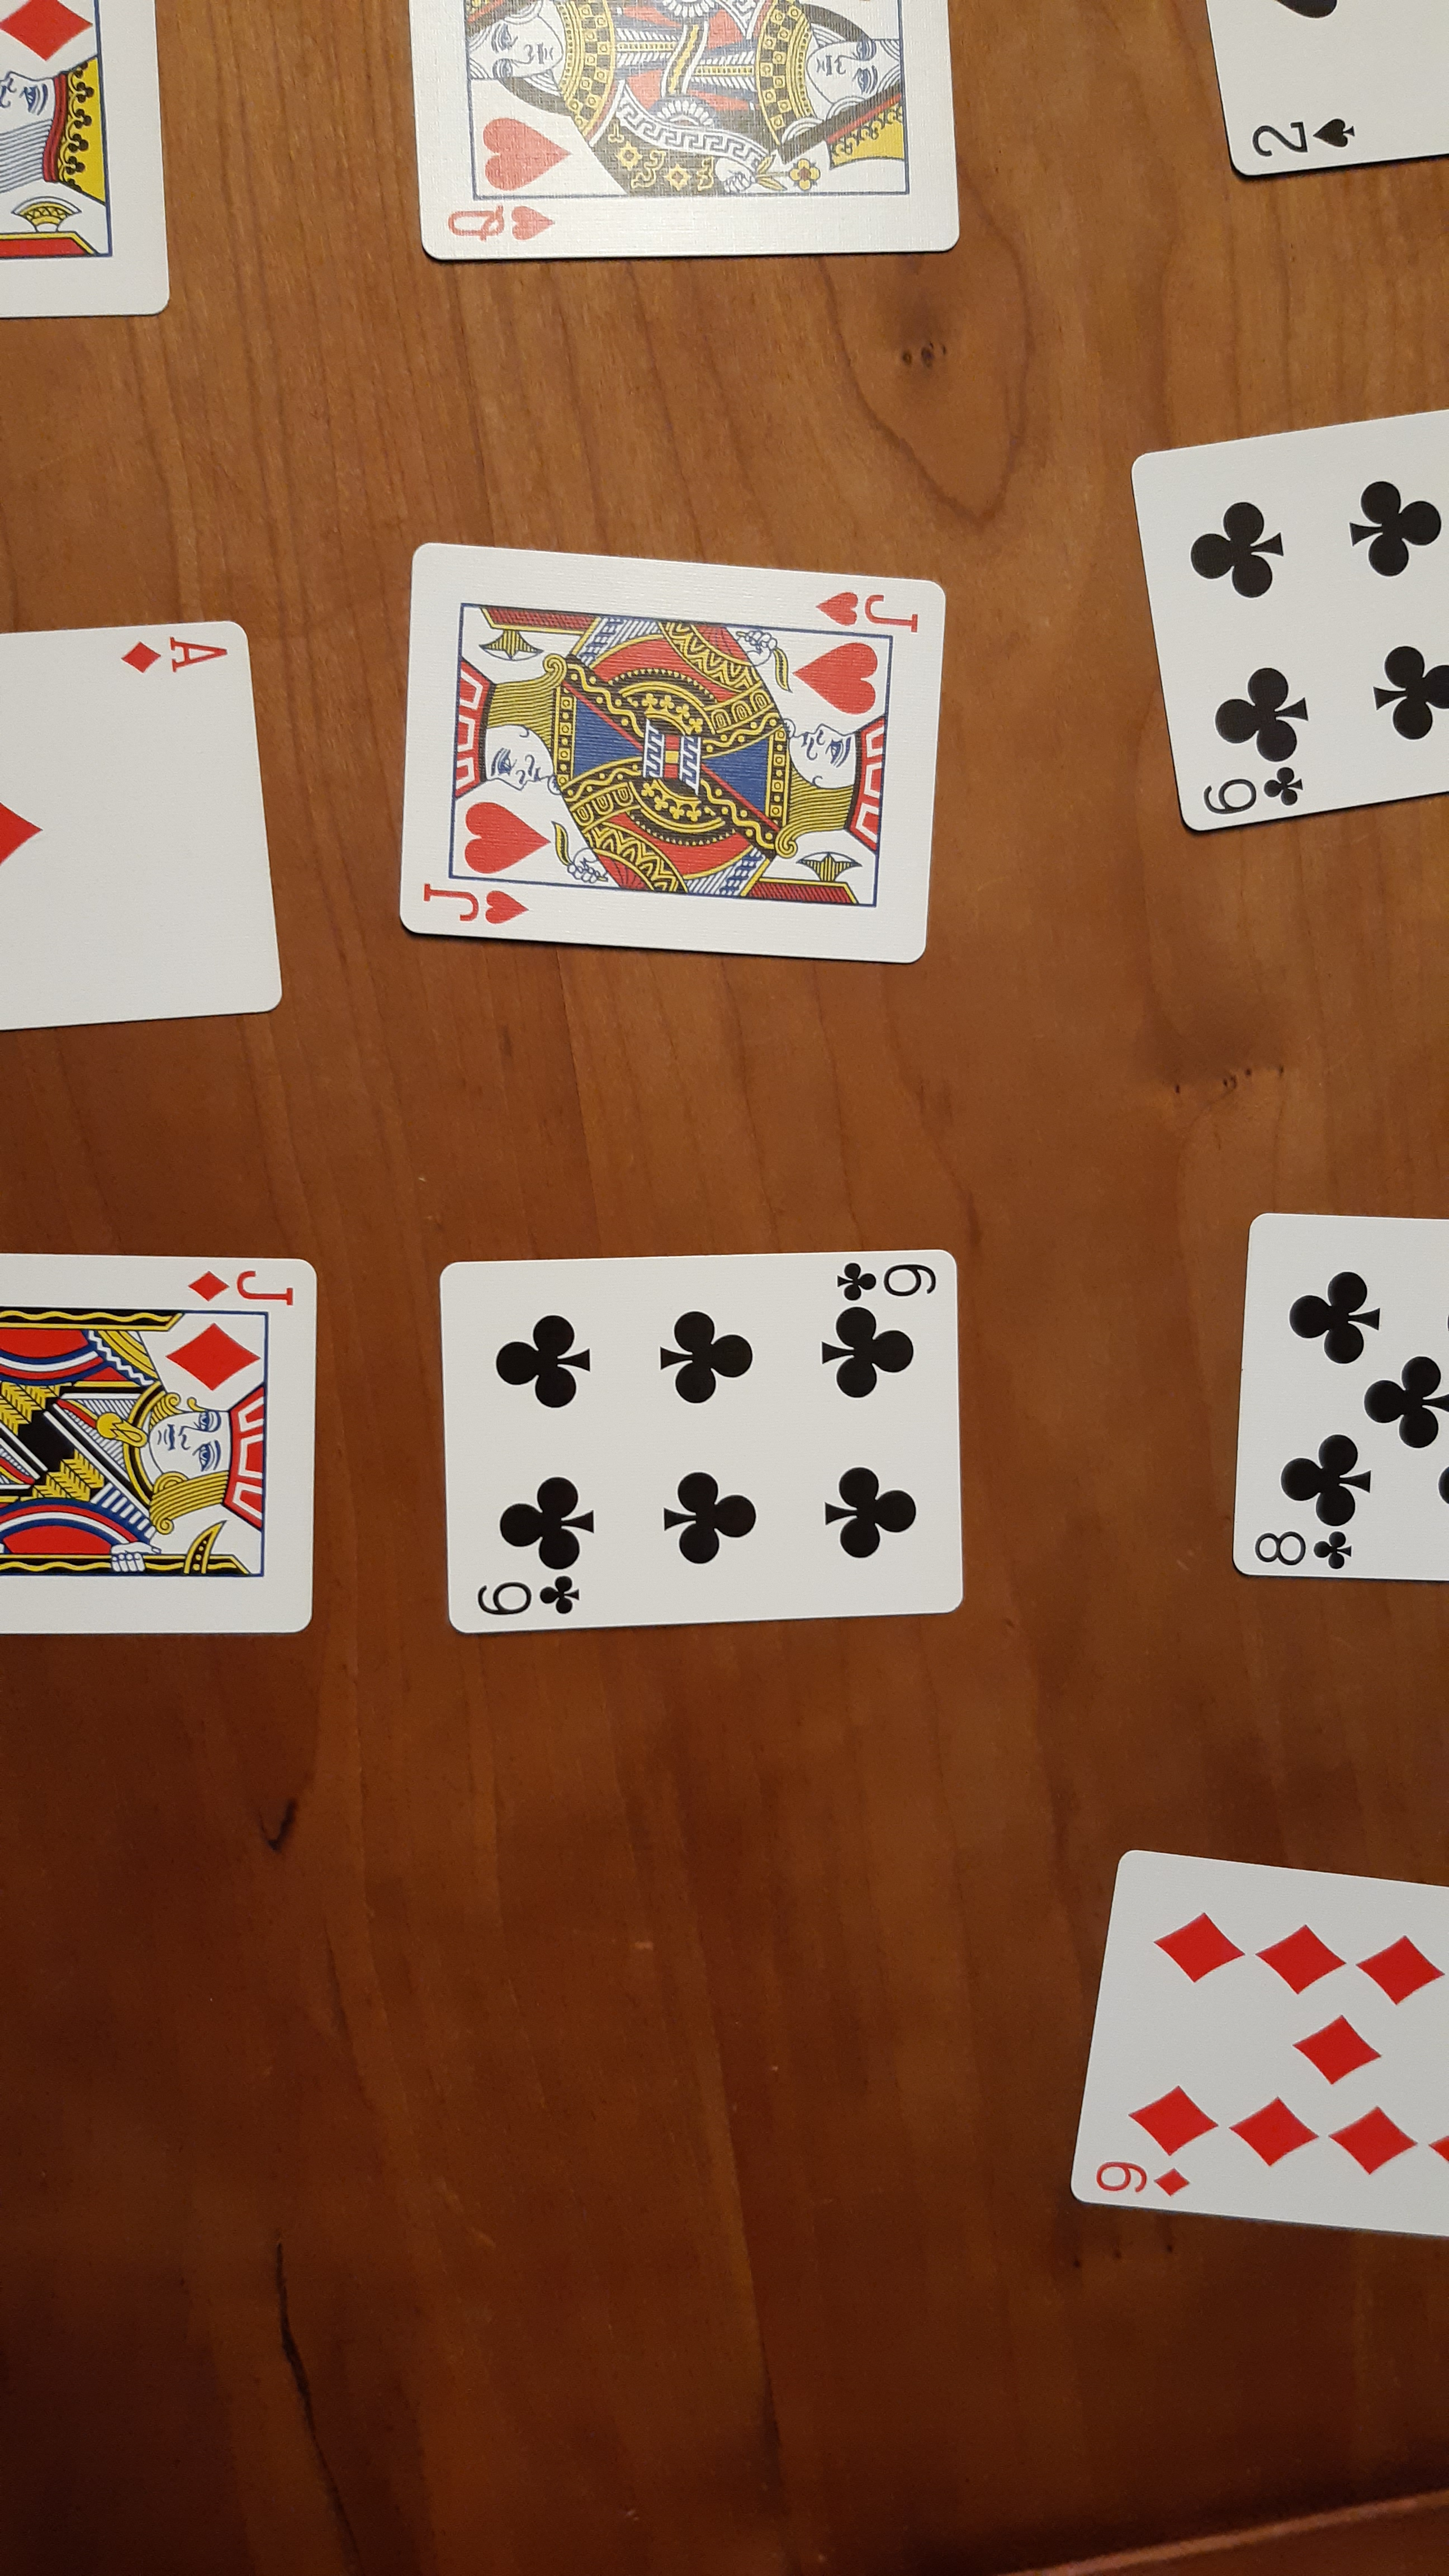Black_Club_6: (451, 1254, 941, 1628), (1175, 469, 1449, 819)
Black_Club_8: (1247, 1522, 1357, 1575)
Red_Diamond_9: (1085, 1884, 1447, 2224)
Red_Diamond_Ace: (113, 623, 239, 692)
Red_Diamond_Jack: (175, 1254, 303, 1315)
Red_Heart_Jack: (409, 872, 534, 932), (801, 579, 927, 635)
Red_Heart_Queen: (1228, 106, 1373, 166), (439, 200, 568, 253)
